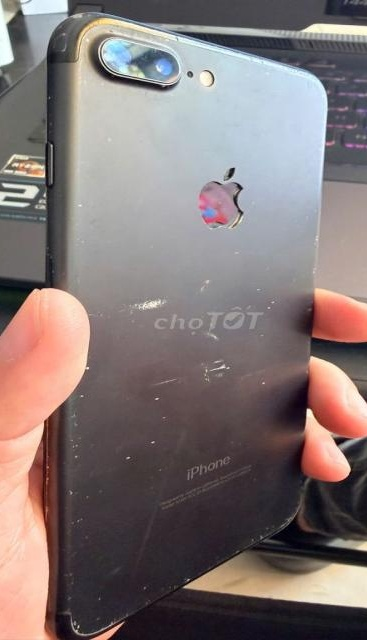scratch: (67, 26, 189, 98), (84, 274, 236, 322), (227, 48, 329, 103), (210, 513, 296, 563), (126, 573, 203, 610), (151, 361, 248, 386), (59, 569, 87, 634), (64, 390, 87, 459), (62, 486, 109, 498), (62, 512, 88, 529), (91, 613, 120, 628), (302, 299, 319, 320), (302, 209, 325, 222), (72, 235, 91, 249), (203, 332, 224, 341), (70, 200, 88, 210), (309, 231, 320, 245), (265, 297, 277, 309), (153, 465, 165, 476), (120, 449, 129, 463), (246, 286, 267, 292), (94, 595, 105, 606), (102, 136, 119, 142), (261, 380, 272, 389), (83, 365, 97, 372), (228, 250, 244, 256), (149, 243, 165, 249), (143, 483, 153, 492), (300, 369, 310, 378), (312, 263, 319, 275), (287, 278, 299, 285), (249, 198, 258, 207), (160, 414, 171, 421), (153, 393, 161, 402), (262, 265, 272, 271), (147, 438, 154, 446), (257, 331, 268, 336)
